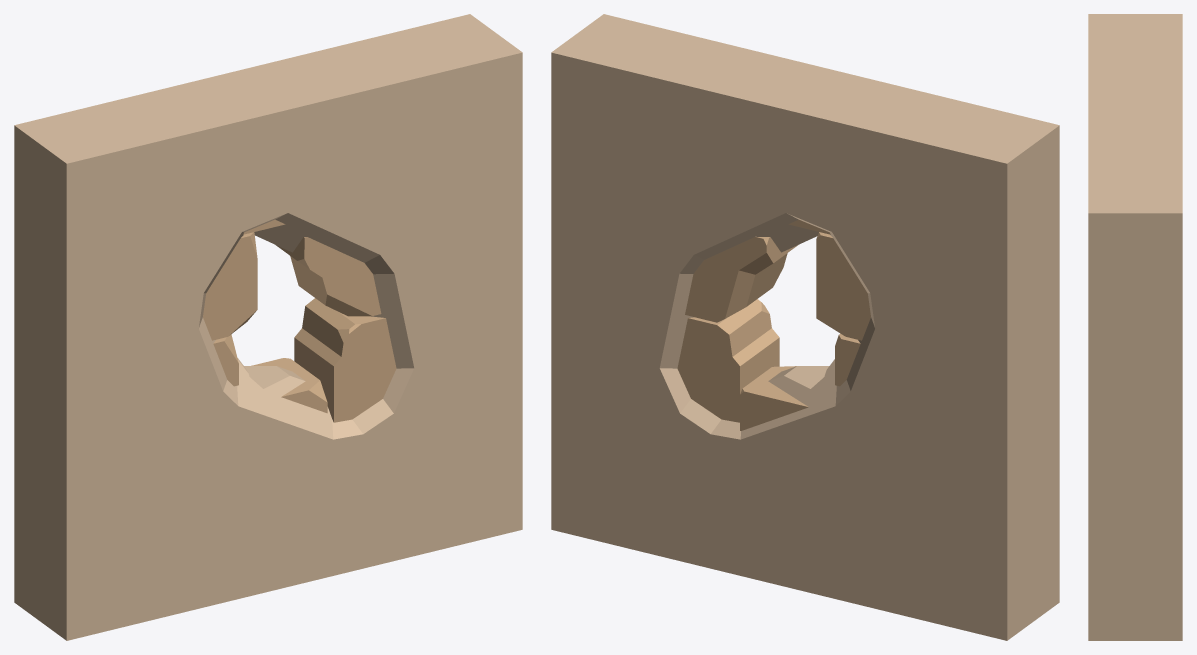
File: Wall_Ruined_Full_2.fbx
The picture shows the model from 3 angles, left to right: view 1: azimuth 30°, elevation 25°; view 2: azimuth 150°, elevation 25°; view 3: azimuth 270°, elevation 25°; orthographic projection. The views are drawn at different scales.
Visible parts, largest first — view 1: object7, object5, object8, object4, object6, object2; view 2: object7, object5, object8, object4, object6, object2; view 3: object7.
Boxes of the visible parts, x1=… form: object7: x1=14, y1=14, x2=522, y2=640; object5: x1=294, y1=298, x2=396, y2=422; object8: x1=276, y1=237, x2=381, y2=316; object4: x1=203, y1=232, x2=257, y2=340; object6: x1=251, y1=358, x2=327, y2=413; object2: x1=213, y1=334, x2=238, y2=386; object7: x1=551, y1=14, x2=1059, y2=640; object5: x1=677, y1=299, x2=779, y2=422; object8: x1=685, y1=236, x2=797, y2=322; object4: x1=816, y1=232, x2=870, y2=340; object6: x1=740, y1=366, x2=808, y2=430; object2: x1=835, y1=333, x2=860, y2=386; object7: x1=1088, y1=14, x2=1182, y2=640.
Size of the model in its own units: 1 by 1 by 0.2.
